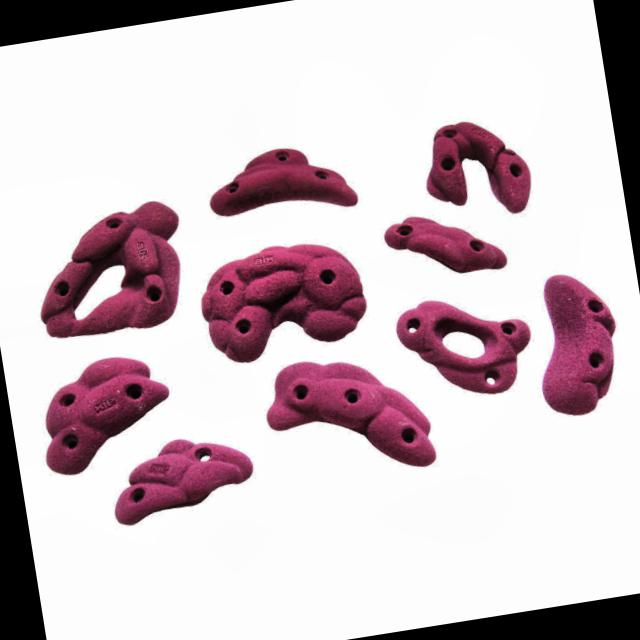Hold: (252, 340, 438, 492), (21, 194, 198, 346), (193, 234, 374, 368), (26, 346, 180, 486), (393, 274, 523, 410), (202, 128, 361, 228), (415, 103, 537, 230), (110, 437, 256, 532), (524, 272, 620, 412), (381, 198, 510, 287)
